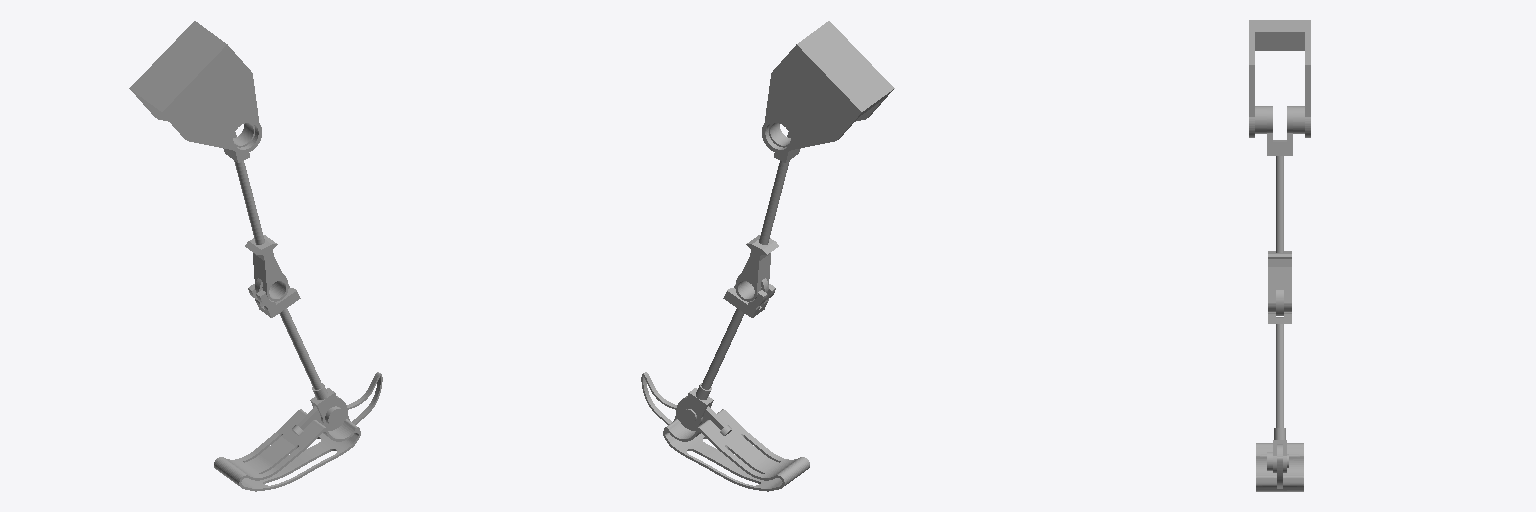
URDF robot description (09.06.26_5pm):
<?xml version="1.0" ?>
<!-- =================================================================================== -->
<!-- |    This document was autogenerated by xacro from 09.06.26_5pm.xacro             | -->
<!-- |    EDITING THIS FILE BY HAND IS NOT RECOMMENDED                                 | -->
<!-- =================================================================================== -->
<robot name="09.06.26_5pm">
  <material name="silver">
    <color rgba="0.700 0.700 0.700 1.000"/>
  </material>
  <transmission name="Hip_tran">
    <type>transmission_interface/SimpleTransmission</type>
    <joint name="Hip">
      <hardwareInterface>hardware_interface/EffortJointInterface</hardwareInterface>
    </joint>
    <actuator name="Hip_actr">
      <hardwareInterface>hardware_interface/EffortJointInterface</hardwareInterface>
      <mechanicalReduction>1</mechanicalReduction>
    </actuator>
  </transmission>
  <transmission name="Knee_tran">
    <type>transmission_interface/SimpleTransmission</type>
    <joint name="Knee">
      <hardwareInterface>hardware_interface/EffortJointInterface</hardwareInterface>
    </joint>
    <actuator name="Knee_actr">
      <hardwareInterface>hardware_interface/EffortJointInterface</hardwareInterface>
      <mechanicalReduction>1</mechanicalReduction>
    </actuator>
  </transmission>
  <transmission name="Ankle_tran">
    <type>transmission_interface/SimpleTransmission</type>
    <joint name="Ankle">
      <hardwareInterface>hardware_interface/EffortJointInterface</hardwareInterface>
    </joint>
    <actuator name="Ankle_actr">
      <hardwareInterface>hardware_interface/EffortJointInterface</hardwareInterface>
      <mechanicalReduction>1</mechanicalReduction>
    </actuator>
  </transmission>
  <gazebo>
    <plugin filename="libgazebo_ros_control.so" name="control"/>
  </gazebo>
  <gazebo reference="base_link">
    <material>Gazebo/Silver</material>
    <mu1>0.2</mu1>
    <mu2>0.2</mu2>
    <selfCollide>true</selfCollide>
    <gravity>true</gravity>
  </gazebo>
  <gazebo reference="actuator_1_v1_1">
    <material>Gazebo/Silver</material>
    <mu1>0.2</mu1>
    <mu2>0.2</mu2>
    <selfCollide>true</selfCollide>
  </gazebo>
  <gazebo reference="actuator_2_v1_1">
    <material>Gazebo/Silver</material>
    <mu1>0.2</mu1>
    <mu2>0.2</mu2>
    <selfCollide>true</selfCollide>
  </gazebo>
  <gazebo reference="hip_clevis_v1_1">
    <material>Gazebo/Silver</material>
    <mu1>0.2</mu1>
    <mu2>0.2</mu2>
    <selfCollide>true</selfCollide>
  </gazebo>
  <gazebo reference="leg_1_rod_v1_1">
    <material>Gazebo/Silver</material>
    <mu1>0.2</mu1>
    <mu2>0.2</mu2>
    <selfCollide>true</selfCollide>
  </gazebo>
  <gazebo reference="knee_bearing_holder_v1_1">
    <material>Gazebo/Silver</material>
    <mu1>0.2</mu1>
    <mu2>0.2</mu2>
    <selfCollide>true</selfCollide>
  </gazebo>
  <gazebo reference="leg_2_rod_v1_1">
    <material>Gazebo/Silver</material>
    <mu1>0.2</mu1>
    <mu2>0.2</mu2>
    <selfCollide>true</selfCollide>
  </gazebo>
  <gazebo reference="ankle_bracelet_v1_1">
    <material>Gazebo/Silver</material>
    <mu1>0.2</mu1>
    <mu2>0.2</mu2>
    <selfCollide>true</selfCollide>
  </gazebo>
  <gazebo reference="ankle_clevis_v1_1">
    <material>Gazebo/Silver</material>
    <mu1>0.2</mu1>
    <mu2>0.2</mu2>
    <selfCollide>true</selfCollide>
  </gazebo>
  <gazebo reference="knee_bearing_v1_1">
    <material>Gazebo/Silver</material>
    <mu1>0.2</mu1>
    <mu2>0.2</mu2>
    <selfCollide>true</selfCollide>
  </gazebo>
  <gazebo reference="ankle_bearing_v1_1">
    <material>Gazebo/Silver</material>
    <mu1>0.2</mu1>
    <mu2>0.2</mu2>
    <selfCollide>true</selfCollide>
  </gazebo>
  <gazebo reference="leg_stack_v1_1">
    <material>Gazebo/Silver</material>
    <mu1>0.2</mu1>
    <mu2>0.2</mu2>
    <selfCollide>true</selfCollide>
  </gazebo>
  <link name="base_link">
    <inertial>
      <origin rpy="0 0 0" xyz="-0.10238687658247528 0.07899999999999985 0.2672490830517451"/>
      <mass value="0.6541304380247976"/>
      <inertia ixx="0.001161" ixy="-0.0" ixz="3.8e-05" iyy="0.001238" iyz="0.0" izz="0.00114"/>
    </inertial>
    <visual>
      <origin rpy="0 0 0" xyz="0 0 0"/>
      <geometry>
        <mesh filename="../meshes/base_link.stl" scale="0.001 0.001 0.001"/>
      </geometry>
      <material name="silver"/>
    </visual>
    <collision>
      <origin rpy="0 0 0" xyz="0 0 0"/>
      <geometry>
        <mesh filename="../meshes/base_link.stl" scale="0.001 0.001 0.001"/>
      </geometry>
    </collision>
  </link>
  <link name="actuator_1_v1_1">
    <inertial>
      <origin rpy="0 0 0" xyz="-1.1412289121354169e-07 0.007250499999999868 -3.278807773898773e-07"/>
      <mass value="0.025332587754889873"/>
      <inertia ixx="4e-06" ixy="-0.0" ixz="-0.0" iyy="6e-06" iyz="0.0" izz="4e-06"/>
    </inertial>
    <visual>
      <origin rpy="0 0 0" xyz="0.05457 -0.048912 -0.204524"/>
      <geometry>
        <mesh filename="../meshes/actuator_1_v1_1.stl" scale="0.001 0.001 0.001"/>
      </geometry>
      <material name="silver"/>
    </visual>
    <collision>
      <origin rpy="0 0 0" xyz="0.05457 -0.048912 -0.204524"/>
      <geometry>
        <mesh filename="../meshes/actuator_1_v1_1.stl" scale="0.001 0.001 0.001"/>
      </geometry>
    </collision>
  </link>
  <link name="actuator_2_v1_1">
    <inertial>
      <origin rpy="0 0 0" xyz="-1.1412289123435837e-07 -0.007249500000000034 -3.278807774176329e-07"/>
      <mass value="0.025332587754889873"/>
      <inertia ixx="4e-06" ixy="-0.0" ixz="0.0" iyy="6e-06" iyz="-0.0" izz="4e-06"/>
    </inertial>
    <visual>
      <origin rpy="0 0 0" xyz="0.05457 -0.109087 -0.204524"/>
      <geometry>
        <mesh filename="../meshes/actuator_2_v1_1.stl" scale="0.001 0.001 0.001"/>
      </geometry>
      <material name="silver"/>
    </visual>
    <collision>
      <origin rpy="0 0 0" xyz="0.05457 -0.109087 -0.204524"/>
      <geometry>
        <mesh filename="../meshes/actuator_2_v1_1.stl" scale="0.001 0.001 0.001"/>
      </geometry>
    </collision>
  </link>
  <link name="hip_clevis_v1_1">
    <inertial>
      <origin rpy="0 0 0" xyz="0.007334968870516073 -0.015587999989115475 -0.02211352849978912"/>
      <mass value="0.034362694114534874"/>
      <inertia ixx="1.2e-05" ixy="-0.0" ixz="2e-06" iyy="1e-05" iyz="0.0" izz="7e-06"/>
    </inertial>
    <visual>
      <origin rpy="0 0 0" xyz="0.05457 -0.094588 -0.204524"/>
      <geometry>
        <mesh filename="../meshes/hip_clevis_v1_1.stl" scale="0.001 0.001 0.001"/>
      </geometry>
      <material name="silver"/>
    </visual>
    <collision>
      <origin rpy="0 0 0" xyz="0.05457 -0.094588 -0.204524"/>
      <geometry>
        <mesh filename="../meshes/hip_clevis_v1_1.stl" scale="0.001 0.001 0.001"/>
      </geometry>
    </collision>
  </link>
  <link name="leg_1_rod_v1_1">
    <inertial>
      <origin rpy="0 0 0" xyz="0.042767405156213176 -8.326672684688674e-17 -0.12893123144354507"/>
      <mass value="0.05716103390617287"/>
      <inertia ixx="0.00015" ixy="-0.0" ixz="4.8e-05" iyy="0.000165" iyz="0.0" izz="2.1e-05"/>
    </inertial>
    <visual>
      <origin rpy="0 0 0" xyz="0.046353 -0.079 -0.179751"/>
      <geometry>
        <mesh filename="../meshes/leg_1_rod_v1_1.stl" scale="0.001 0.001 0.001"/>
      </geometry>
      <material name="silver"/>
    </visual>
    <collision>
      <origin rpy="0 0 0" xyz="0.046353 -0.079 -0.179751"/>
      <geometry>
        <mesh filename="../meshes/leg_1_rod_v1_1.stl" scale="0.001 0.001 0.001"/>
      </geometry>
    </collision>
  </link>
  <link name="knee_bearing_holder_v1_1">
    <inertial>
      <origin rpy="0 0 0" xyz="0.002117645657388343 0.004713000000010223 -0.01496802981633905"/>
      <mass value="0.052526088047730436"/>
      <inertia ixx="1e-05" ixy="-0.0" ixz="1e-06" iyy="1.6e-05" iyz="0.0" izz="1.3e-05"/>
    </inertial>
    <visual>
      <origin rpy="0 0 0" xyz="-0.015786 -0.074287 0.007579"/>
      <geometry>
        <mesh filename="../meshes/knee_bearing_holder_v1_1.stl" scale="0.001 0.001 0.001"/>
      </geometry>
      <material name="silver"/>
    </visual>
    <collision>
      <origin rpy="0 0 0" xyz="-0.015786 -0.074287 0.007579"/>
      <geometry>
        <mesh filename="../meshes/knee_bearing_holder_v1_1.stl" scale="0.001 0.001 0.001"/>
      </geometry>
    </collision>
  </link>
  <link name="leg_2_rod_v1_1">
    <inertial>
      <origin rpy="0 0 0" xyz="0.0259873322679865 -2.7755575615628914e-17 -0.06768226109860206"/>
      <mass value="0.019259830127920444"/>
      <inertia ixx="3e-05" ixy="-0.0" ixz="1.1e-05" iyy="3.4e-05" iyz="0.0" izz="5e-06"/>
    </inertial>
    <visual>
      <origin rpy="0 0 0" xyz="-0.023177 -0.079 0.026773"/>
      <geometry>
        <mesh filename="../meshes/leg_2_rod_v1_1.stl" scale="0.001 0.001 0.001"/>
      </geometry>
      <material name="silver"/>
    </visual>
    <collision>
      <origin rpy="0 0 0" xyz="-0.023177 -0.079 0.026773"/>
      <geometry>
        <mesh filename="../meshes/leg_2_rod_v1_1.stl" scale="0.001 0.001 0.001"/>
      </geometry>
    </collision>
  </link>
  <link name="ankle_bracelet_v1_1">
    <inertial>
      <origin rpy="0 0 0" xyz="0.005670380472938011 -6.770972671432673e-14 -0.014767385594795734"/>
      <mass value="0.02471712296263406"/>
      <inertia ixx="5e-06" ixy="-0.0" ixz="1e-06" iyy="6e-06" iyz="0.0" izz="3e-06"/>
    </inertial>
    <visual>
      <origin rpy="0 0 0" xyz="-0.075152 -0.079 0.162138"/>
      <geometry>
        <mesh filename="../meshes/ankle_bracelet_v1_1.stl" scale="0.001 0.001 0.001"/>
      </geometry>
      <material name="silver"/>
    </visual>
    <collision>
      <origin rpy="0 0 0" xyz="-0.075152 -0.079 0.162138"/>
      <geometry>
        <mesh filename="../meshes/ankle_bracelet_v1_1.stl" scale="0.001 0.001 0.001"/>
      </geometry>
    </collision>
  </link>
  <link name="ankle_clevis_v1_1">
    <inertial>
      <origin rpy="0 0 0" xyz="0.14821410874760405 -0.09772449238578708 0.005518689044686387"/>
      <mass value="0.02037716964359355"/>
      <inertia ixx="2e-06" ixy="0.0" ixz="0.0" iyy="1e-06" iyz="-0.0" izz="2e-06"/>
    </inertial>
    <visual>
      <origin rpy="0 0 0" xyz="0.062472 -0.172475 0.195237"/>
      <geometry>
        <mesh filename="../meshes/ankle_clevis_v1_1.stl" scale="0.001 0.001 0.001"/>
      </geometry>
      <material name="silver"/>
    </visual>
    <collision>
      <origin rpy="0 0 0" xyz="0.062472 -0.172475 0.195237"/>
      <geometry>
        <mesh filename="../meshes/ankle_clevis_v1_1.stl" scale="0.001 0.001 0.001"/>
      </geometry>
    </collision>
  </link>
  <link name="knee_bearing_v1_1">
    <inertial>
      <origin rpy="0 0 0" xyz="4.748916804364969e-05 -0.004711999999999994 -0.00018823234039732142"/>
      <mass value="0.022749323058745264"/>
      <inertia ixx="2e-06" ixy="-0.0" ixz="-0.0" iyy="4e-06" iyz="0.0" izz="2e-06"/>
    </inertial>
    <visual>
      <origin rpy="0 0 0" xyz="-0.015786 -0.083712 0.007579"/>
      <geometry>
        <mesh filename="../meshes/knee_bearing_v1_1.stl" scale="0.001 0.001 0.001"/>
      </geometry>
      <material name="silver"/>
    </visual>
    <collision>
      <origin rpy="0 0 0" xyz="-0.015786 -0.083712 0.007579"/>
      <geometry>
        <mesh filename="../meshes/knee_bearing_v1_1.stl" scale="0.001 0.001 0.001"/>
      </geometry>
    </collision>
  </link>
  <link name="ankle_bearing_v1_1">
    <inertial>
      <origin rpy="0 0 0" xyz="0.14821410874711993 0.22977499999999998 0.005518689044871766"/>
      <mass value="0.04520418311639939"/>
      <inertia ixx="5e-06" ixy="0.0" ixz="-0.0" iyy="9e-06" iyz="0.0" izz="5e-06"/>
    </inertial>
    <visual>
      <origin rpy="0 0 0" xyz="0.062472 0.150775 0.195237"/>
      <geometry>
        <mesh filename="../meshes/ankle_bearing_v1_1.stl" scale="0.001 0.001 0.001"/>
      </geometry>
      <material name="silver"/>
    </visual>
    <collision>
      <origin rpy="0 0 0" xyz="0.062472 0.150775 0.195237"/>
      <geometry>
        <mesh filename="../meshes/ankle_bearing_v1_1.stl" scale="0.001 0.001 0.001"/>
      </geometry>
    </collision>
  </link>
  <link name="leg_stack_v1_1">
    <inertial>
      <origin rpy="0 0 0" xyz="-0.0415776889338746 0.0036256159342244326 -0.03833863391779391"/>
      <mass value="0.16228632664383524"/>
      <inertia ixx="0.00015" ixy="0.0" ixz="-0.000172" iyy="0.000512" iyz="0.0" izz="0.00044"/>
    </inertial>
    <visual>
      <origin rpy="0 0 0" xyz="-0.085742 -0.075375 0.189718"/>
      <geometry>
        <mesh filename="../meshes/leg_stack_v1_1.stl" scale="0.001 0.001 0.001"/>
      </geometry>
      <material name="silver"/>
    </visual>
    <collision>
      <origin rpy="0 0 0" xyz="-0.085742 -0.075375 0.189718"/>
      <geometry>
        <mesh filename="../meshes/leg_stack_v1_1.stl" scale="0.001 0.001 0.001"/>
      </geometry>
    </collision>
  </link>
  <joint name="Rigid 11" type="fixed">
    <origin rpy="0 0 0" xyz="-0.05457 0.048912 0.204524"/>
    <parent link="base_link"/>
    <child link="actuator_1_v1_1"/>
  </joint>
  <joint name="Rigid 12" type="fixed">
    <origin rpy="0 0 0" xyz="-0.05457 0.109087 0.204524"/>
    <parent link="base_link"/>
    <child link="actuator_2_v1_1"/>
  </joint>
  <joint name="Hip" type="revolute">
    <origin rpy="0 0 0" xyz="0.0 -0.014499 0.0"/>
    <parent link="actuator_2_v1_1"/>
    <child link="hip_clevis_v1_1"/>
    <axis xyz="0.0 -1.0 -0.0"/>
    <limit effort="100" lower="-0.261799" upper="1.570796" velocity="100"/>
    
    <dynamics damping="2.0" friction="0.2"/>
  </joint>
  <joint name="Rigid 14" type="fixed">
    <origin rpy="0 0 0" xyz="0.008217 -0.015588 -0.024773"/>
    <parent link="hip_clevis_v1_1"/>
    <child link="leg_1_rod_v1_1"/>
  </joint>
  <joint name="Knee" type="revolute">
    <origin rpy="0 0 0" xyz="0.062139 -0.004713 -0.18733"/>
    <parent link="leg_1_rod_v1_1"/>
    <child link="knee_bearing_holder_v1_1"/>
    <axis xyz="-0.0 1.0 -0.0"/>
    <limit effort="100" lower="-0.523599" upper="0.034907" velocity="100"/>
    <dynamics damping="2.0" friction="0.2"/>
  </joint>
  <joint name="Rigid 17" type="fixed">
    <origin rpy="0 0 0" xyz="0.007391 0.004713 -0.019194"/>
    <parent link="knee_bearing_holder_v1_1"/>
    <child link="leg_2_rod_v1_1"/>
  </joint>
  <joint name="Rigid 18" type="fixed">
    <origin rpy="0 0 0" xyz="0.051975 0.0 -0.135365"/>
    <parent link="leg_2_rod_v1_1"/>
    <child link="ankle_bracelet_v1_1"/>
  </joint>
  <joint name="Rigid 21" type="fixed">
    <origin rpy="0 0 0" xyz="-0.137624 0.093475 -0.033099"/>
    <parent link="ankle_bracelet_v1_1"/>
    <child link="ankle_clevis_v1_1"/>
  </joint>
  <joint name="Rigid 22" type="fixed">
    <origin rpy="0 0 0" xyz="0.0 0.009425 0.0"/>
    <parent link="knee_bearing_holder_v1_1"/>
    <child link="knee_bearing_v1_1"/>
  </joint>
  <joint name="Rigid 23" type="fixed">
    <origin rpy="0 0 0" xyz="0.0 -0.32325 0.0"/>
    <parent link="ankle_clevis_v1_1"/>
    <child link="ankle_bearing_v1_1"/>
  </joint>
  <joint name="Ankle" type="revolute">
    <origin rpy="0 0 0" xyz="0.148214 0.22615 0.005519"/>
    <parent link="ankle_bearing_v1_1"/>
    <child link="leg_stack_v1_1"/>
    <axis xyz="-0.0 1.0 -0.0"/>
    <limit effort="100" lower="-1.134464" upper="0.261799" velocity="100"/>
    <dynamics damping="2.0" friction="0.2"/>
  </joint>
</robot>

--- Render facts (derived) ---
Views: 3 orthographic renders of the robot side by side, from view 1: azimuth 30°, elevation 25°; view 2: azimuth 150°, elevation 25°; view 3: azimuth 270°, elevation 25°.
Robot: 09.06.26_5pm — 12 links, 11 joints (3 revolute, 8 fixed); root link base_link; default pose: all joints at 0.
Links seen in each view (by area): view 1: base_link, leg_stack_v1_1, leg_1_rod_v1_1, knee_bearing_holder_v1_1, leg_2_rod_v1_1, ankle_bracelet_v1_1; view 2: base_link, leg_stack_v1_1, leg_1_rod_v1_1, knee_bearing_holder_v1_1, leg_2_rod_v1_1, ankle_bracelet_v1_1; view 3: base_link, leg_1_rod_v1_1, leg_stack_v1_1, leg_2_rod_v1_1, hip_clevis_v1_1.
Boxes of the visible links, bbox=[...] form: base_link: bbox=[129, 21, 261, 153]; leg_stack_v1_1: bbox=[214, 372, 382, 491]; leg_1_rod_v1_1: bbox=[234, 161, 287, 301]; knee_bearing_holder_v1_1: bbox=[248, 274, 300, 317]; leg_2_rod_v1_1: bbox=[279, 308, 322, 389]; ankle_bracelet_v1_1: bbox=[310, 383, 344, 427]; base_link: bbox=[762, 21, 894, 153]; leg_stack_v1_1: bbox=[641, 372, 809, 491]; leg_1_rod_v1_1: bbox=[736, 161, 789, 301]; knee_bearing_holder_v1_1: bbox=[723, 274, 775, 317]; leg_2_rod_v1_1: bbox=[701, 308, 744, 389]; ankle_bracelet_v1_1: bbox=[679, 383, 713, 427]; base_link: bbox=[1249, 20, 1310, 137]; leg_1_rod_v1_1: bbox=[1268, 140, 1291, 311]; leg_stack_v1_1: bbox=[1256, 443, 1303, 491]; leg_2_rod_v1_1: bbox=[1276, 317, 1283, 427]; hip_clevis_v1_1: bbox=[1267, 106, 1292, 155].
Bounding box of the posed robot: 0.3108 × 0.0747 × 0.5798 m (x, y, z).
12 mesh visuals loaded from 12 distinct referenced files (12 binary STL).
